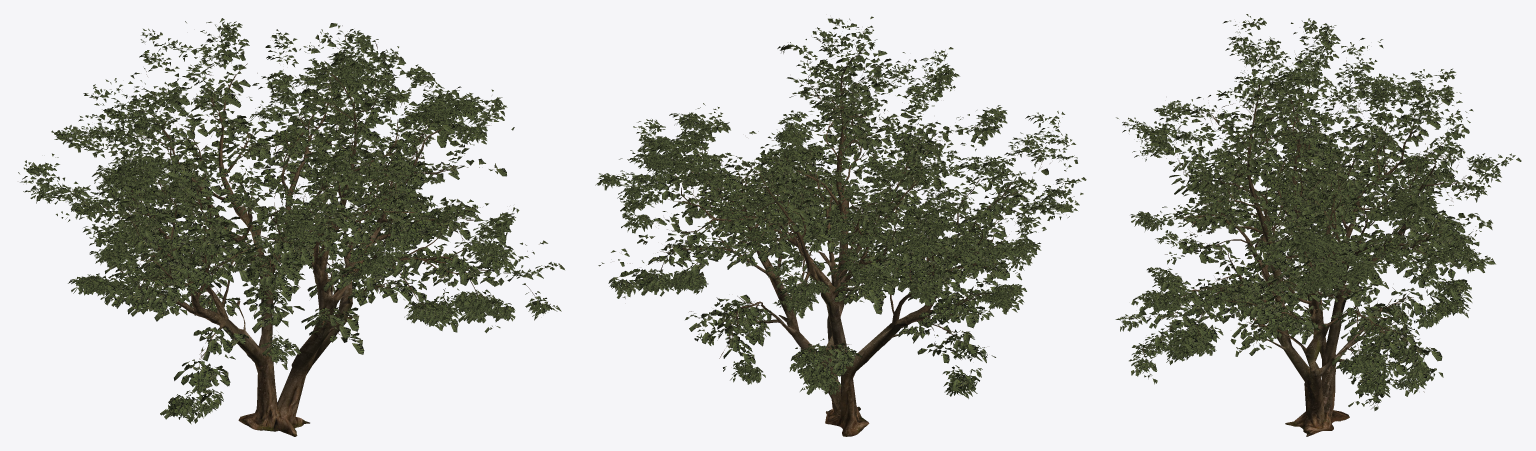
File: jacaranda_tree.glb
3 renders of one model, left to right at view 1: azimuth 30°, elevation 25°; view 2: azimuth 150°, elevation 25°; view 3: azimuth 270°, elevation 25°, orthographic. The views are drawn at different scales.
Parts seen in each view (by area): view 1: jacaranda_tree_LOD0; view 2: jacaranda_tree_LOD0; view 3: jacaranda_tree_LOD0.
Boxes of the visible parts, left/top/right/bottom form: jacaranda_tree_LOD0: left=18, top=18, right=564, bottom=436; jacaranda_tree_LOD0: left=595, top=16, right=1086, bottom=436; jacaranda_tree_LOD0: left=1115, top=14, right=1521, bottom=436.
Bounding box in the file's own units: 24.16 × 19.33 × 19.05.
3 materials, 3 textured.
